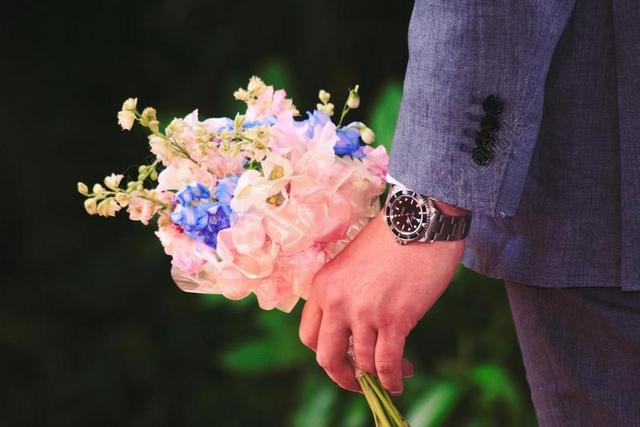no-phone: (115, 85, 469, 420)
